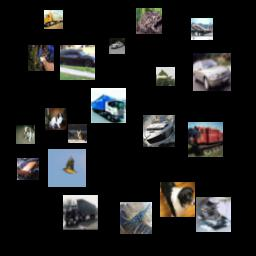airplane: (120, 202, 152, 234), (191, 18, 213, 40), (156, 67, 175, 86)
automobile: (193, 53, 231, 91), (60, 45, 95, 80), (17, 158, 39, 180), (109, 38, 125, 54)
bird: (48, 149, 86, 187)
cat: (196, 197, 231, 232)
deer: (28, 45, 54, 71), (68, 124, 87, 143)
dog: (160, 182, 195, 217), (45, 108, 67, 130), (16, 125, 35, 144)
frog: (136, 8, 162, 34)
ship: (143, 115, 175, 147)
truck: (63, 195, 98, 230), (91, 88, 126, 123), (188, 122, 223, 157), (44, 10, 63, 29)
